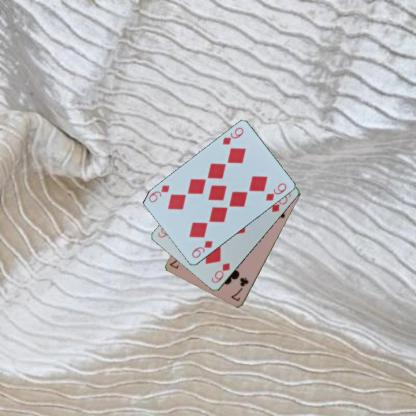6d: (209, 260, 231, 285)
7c: (228, 274, 250, 303)
9d: (189, 238, 214, 259), (220, 125, 245, 146)
